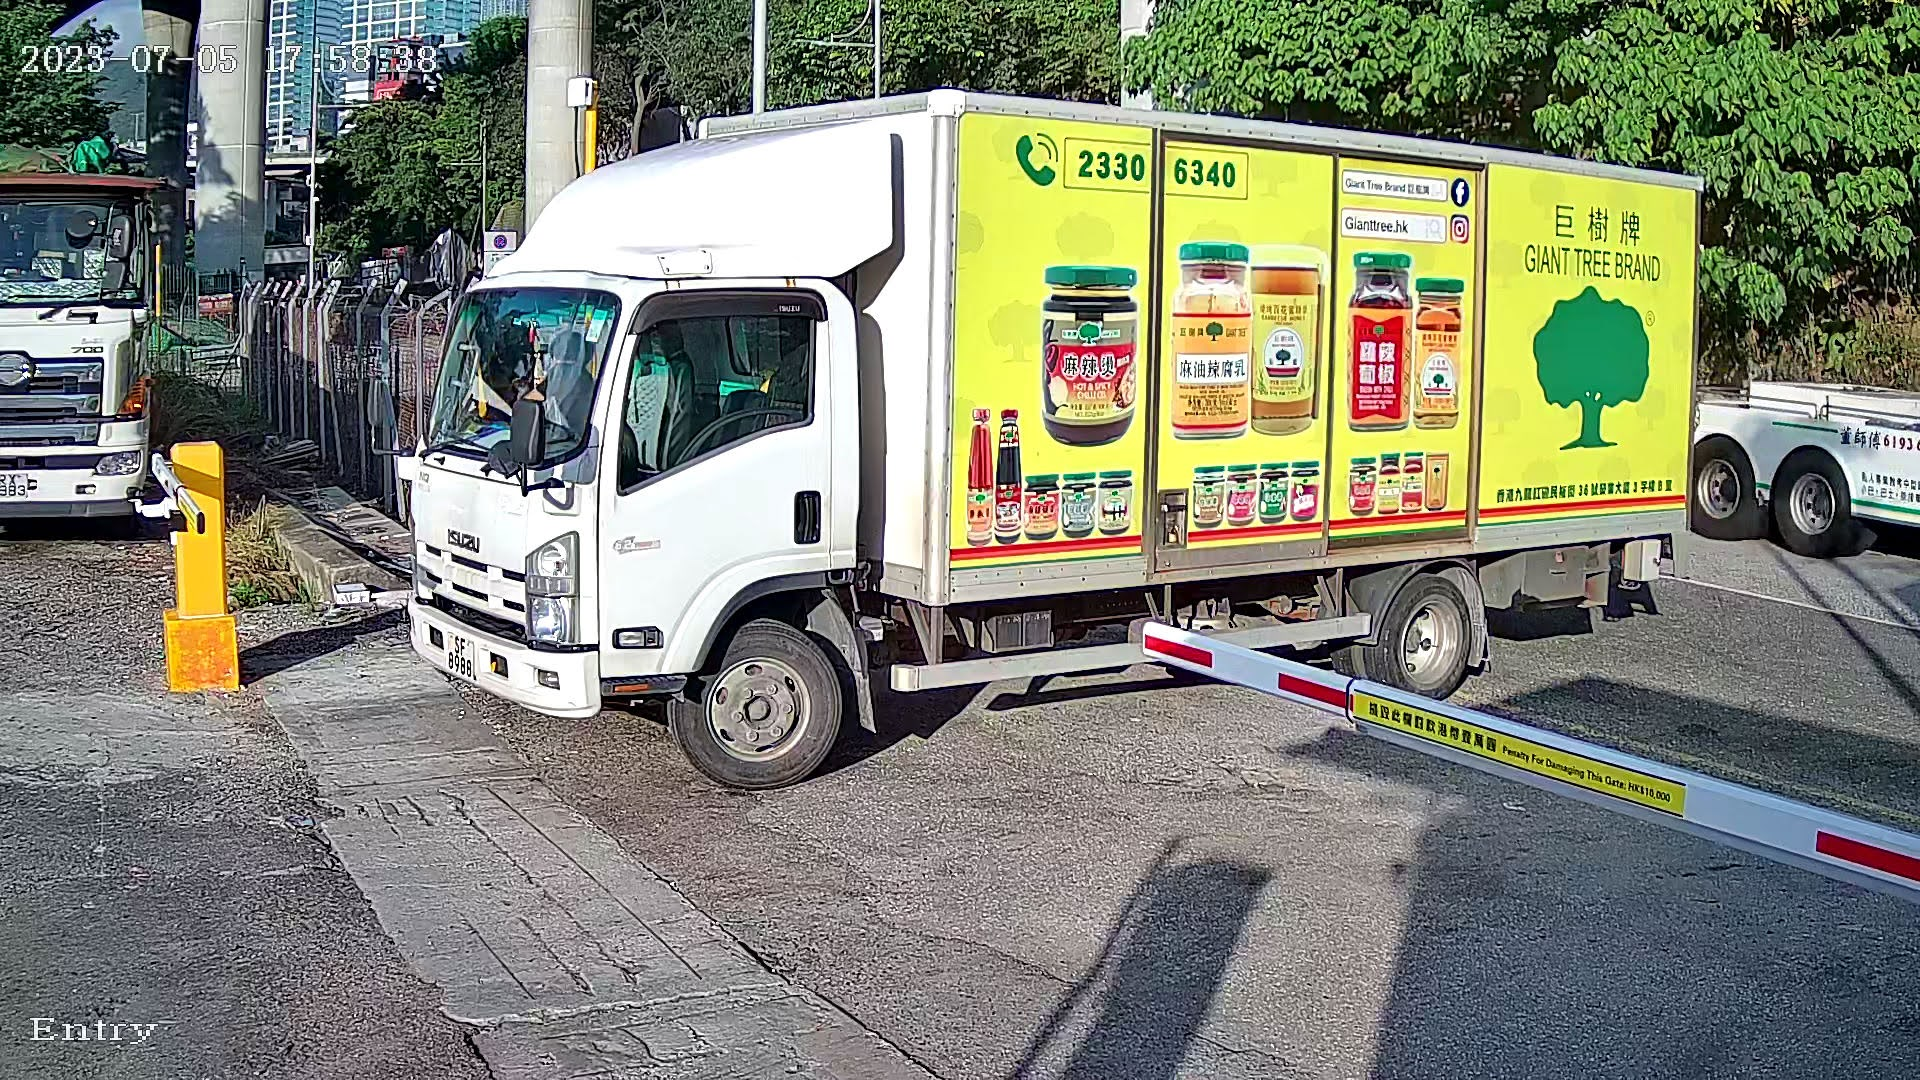truck_small: (361, 75, 1797, 804)
